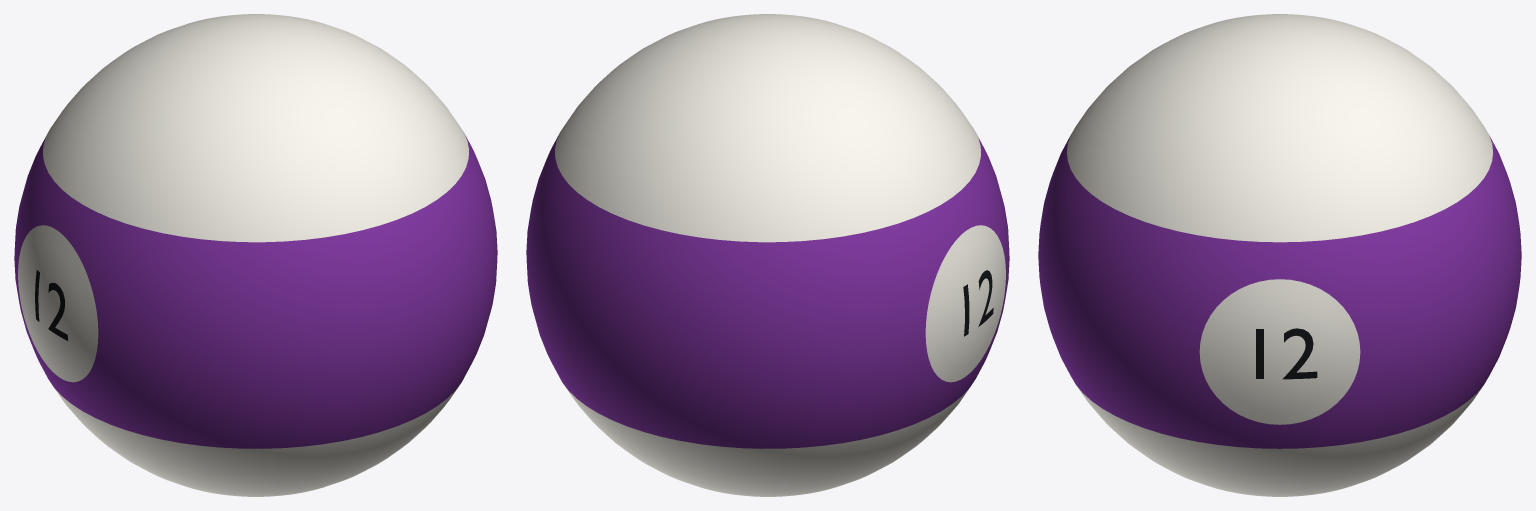
The model's file is ball_12.glb.
3 renders of one model, left to right at view 1: azimuth 30°, elevation 25°; view 2: azimuth 150°, elevation 25°; view 3: azimuth 270°, elevation 25°, orthographic.
Visible parts, largest first — view 1: Ball 12 | resin, Ball 12 | number medallion | opposite, Ball 12 | numeral 12 | opposite; view 2: Ball 12 | resin, Ball 12 | number medallion | opposite, Ball 12 | numeral 12 | opposite; view 3: Ball 12 | resin, Ball 12 | number medallion, Ball 12 | numeral 12.
Part boxes in pixels (x1=…): Ball 12 | resin: x1=14, y1=14, x2=497, y2=496; Ball 12 | number medallion | opposite: x1=18, y1=225, x2=98, y2=382; Ball 12 | numeral 12 | opposite: x1=35, y1=270, x2=68, y2=340; Ball 12 | resin: x1=526, y1=14, x2=1009, y2=496; Ball 12 | number medallion | opposite: x1=925, y1=225, x2=1005, y2=382; Ball 12 | numeral 12 | opposite: x1=963, y1=270, x2=993, y2=336; Ball 12 | resin: x1=1038, y1=14, x2=1521, y2=496; Ball 12 | number medallion: x1=1199, y1=279, x2=1360, y2=424; Ball 12 | numeral 12: x1=1256, y1=328, x2=1317, y2=379.
Size of the model in its own units: 0.0573 by 0.0571 by 0.0571.
